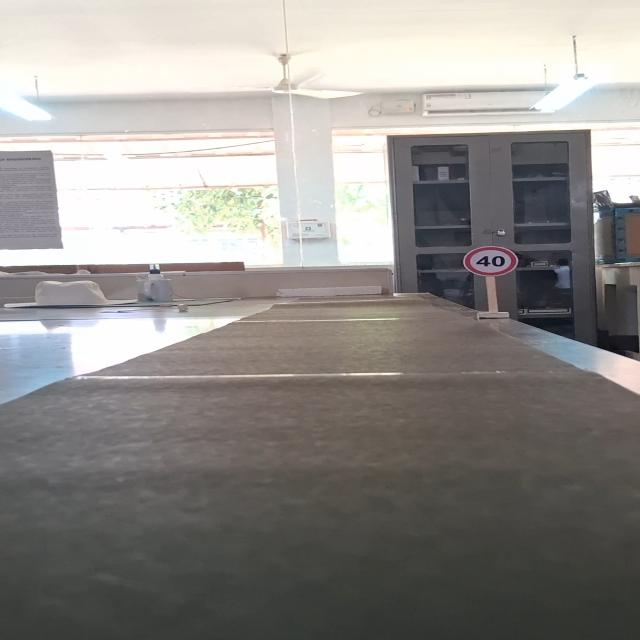Speed40: (461, 244, 523, 280)
